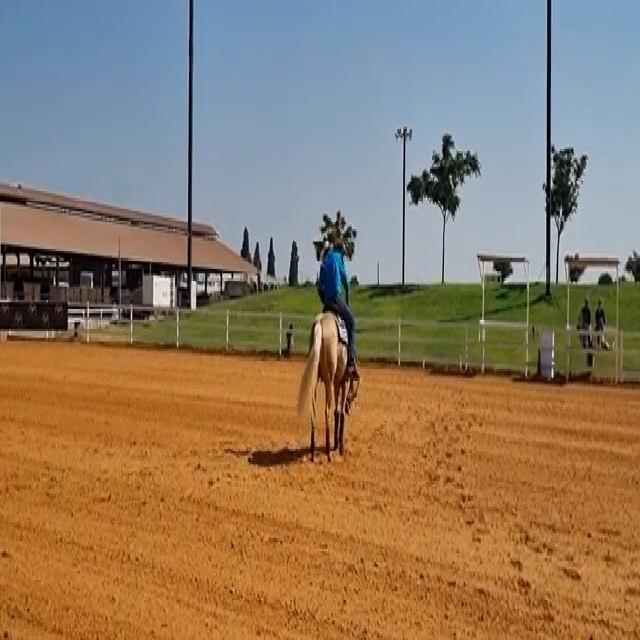horse: (295, 304, 353, 464)
